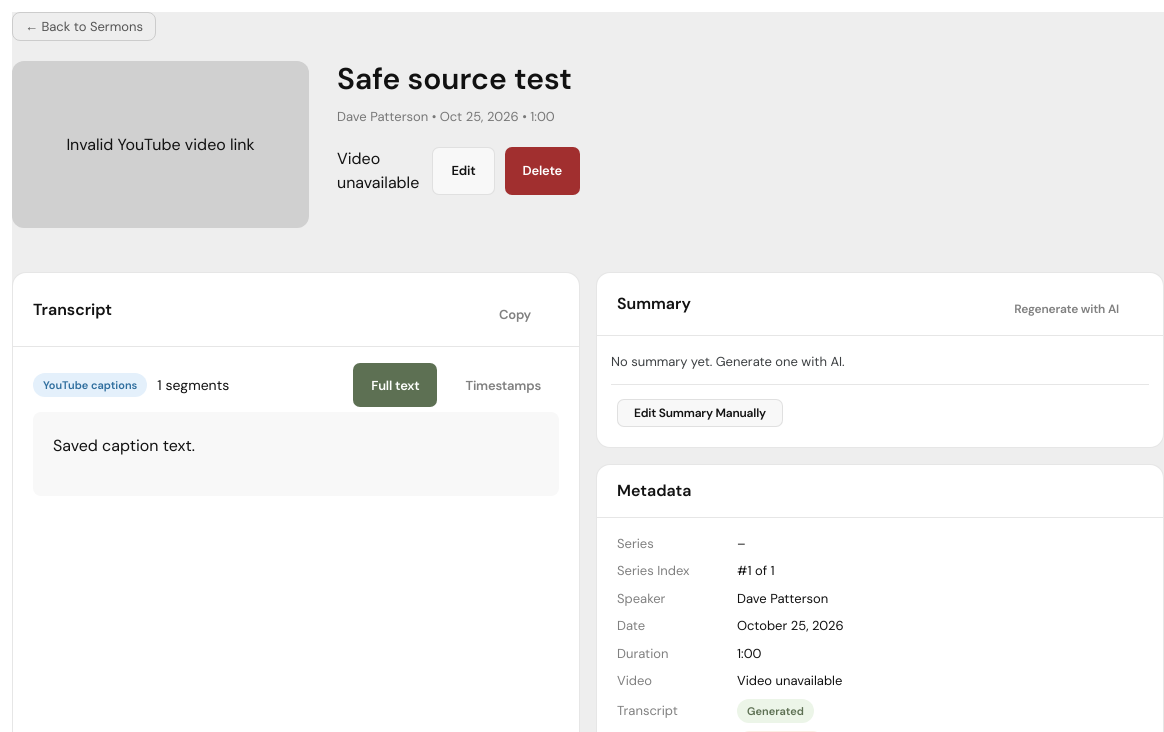
keeps captions readable but renders no player or source link for javascript:alert(1) / null
The width and height of the screenshot is (1164, 732).
expect the heading "Safe source test" is shown: met, box [337,61,580,97]
Click the button "Timestamps" at point(503, 385), box [448,363,559,407]
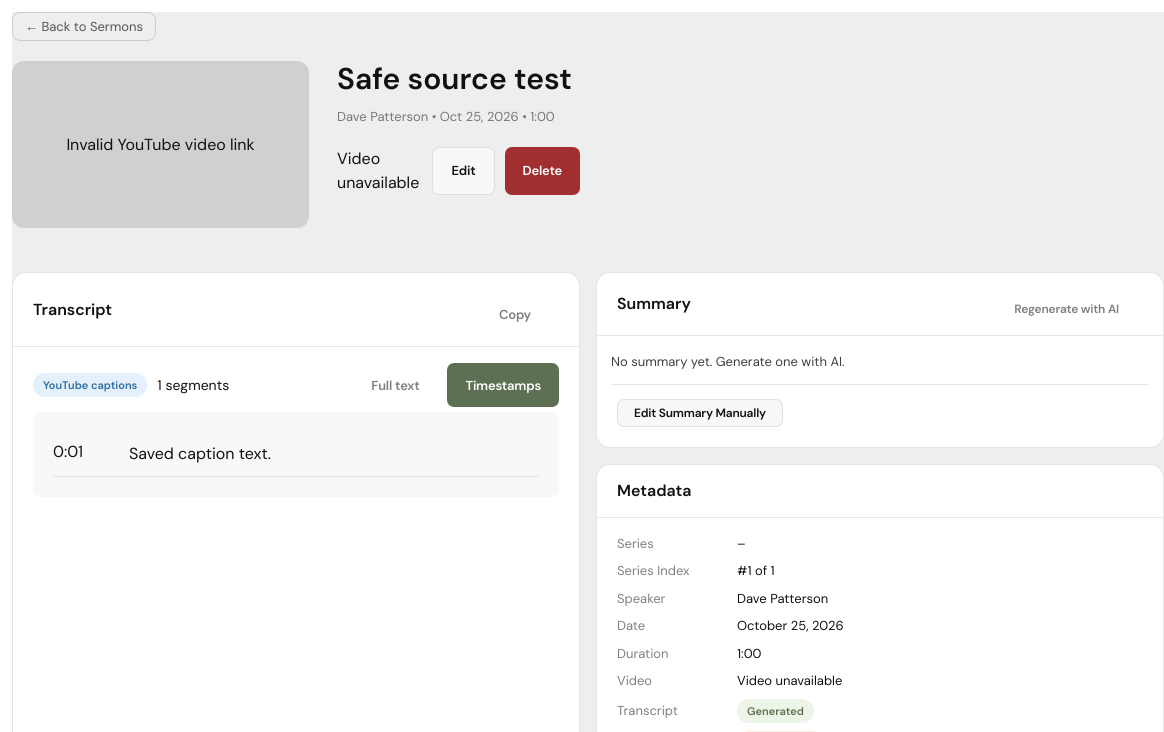
expect the text "Saved caption text." is shown: met, box [129,443,271,464]
expect the text titled "Video unavailable" is shown: met, box [53,441,83,462]
